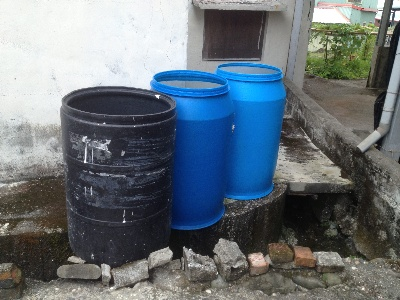bucket: (60, 85, 178, 267), (149, 70, 228, 233), (216, 61, 288, 199)
